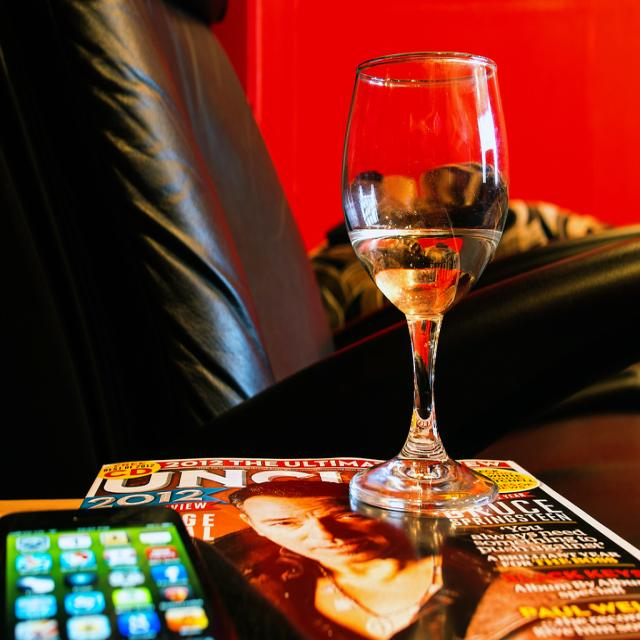Mobile-phone: (4, 523, 218, 638)
